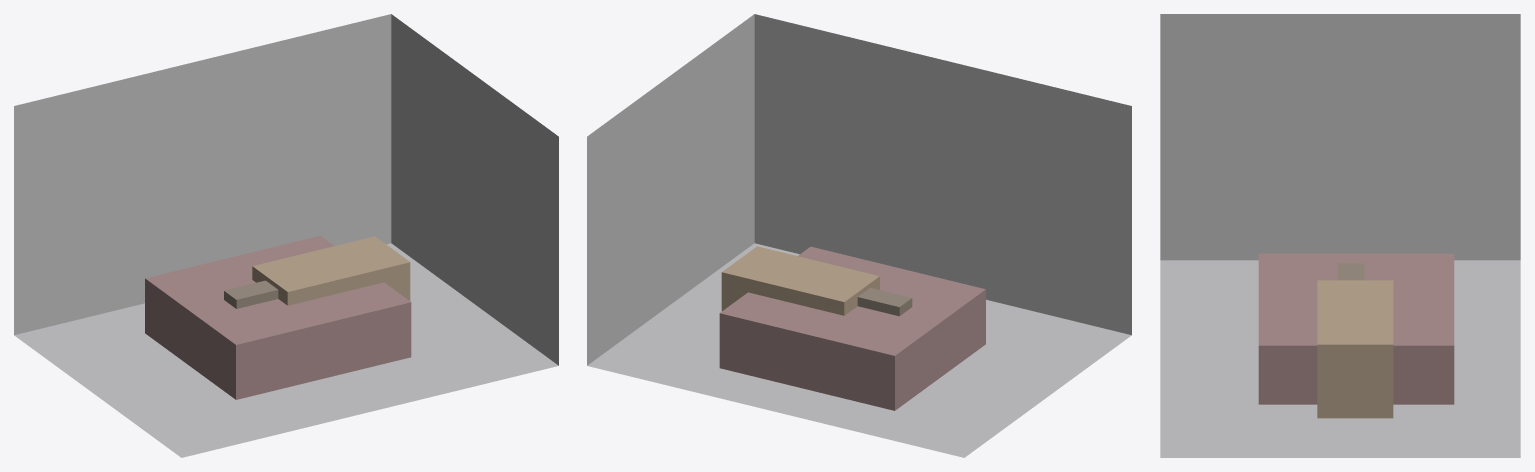
Rendered from optimised_layout.glb.
3 views of the same model, side by side, from view 1: azimuth 30°, elevation 25°; view 2: azimuth 150°, elevation 25°; view 3: azimuth 270°, elevation 25° (orthographic). The views are drawn at different scales.
Parts seen in each view (by area): view 1: room, bed, desk, suitcase; view 2: room, bed, desk, suitcase; view 3: room, bed, desk, suitcase.
Part boxes in pixels (x1,y1,x2,y2): room: (14, 14, 558, 457); bed: (145, 235, 411, 399); desk: (252, 236, 410, 305); suitcase: (224, 280, 278, 308); room: (587, 14, 1131, 457); bed: (719, 246, 985, 410); desk: (721, 246, 879, 315); suitcase: (857, 288, 912, 316); room: (1160, 14, 1520, 457); bed: (1258, 253, 1454, 404); desk: (1317, 280, 1393, 418); suitcase: (1337, 263, 1364, 280).
Size of the model in its own units: 4.31 by 2.5 by 3.31.
